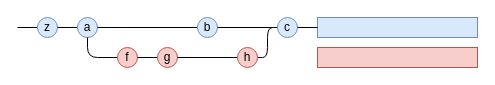
Image size: 495x85. Some labels were removed from this diagram. Each missing label, with the centre of its shape:
"main" belongs at point (397, 27).
"very-long-feature-branch" belongs at point (397, 57).
